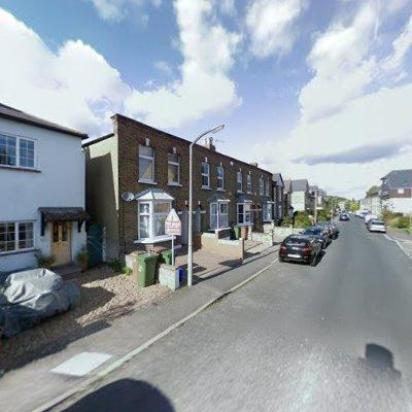stationary-car-offstreet: (0, 266, 80, 340)
stationary-car-onstreet: (278, 233, 324, 263), (299, 225, 329, 248), (313, 221, 339, 239), (366, 218, 386, 232), (339, 211, 349, 221)
